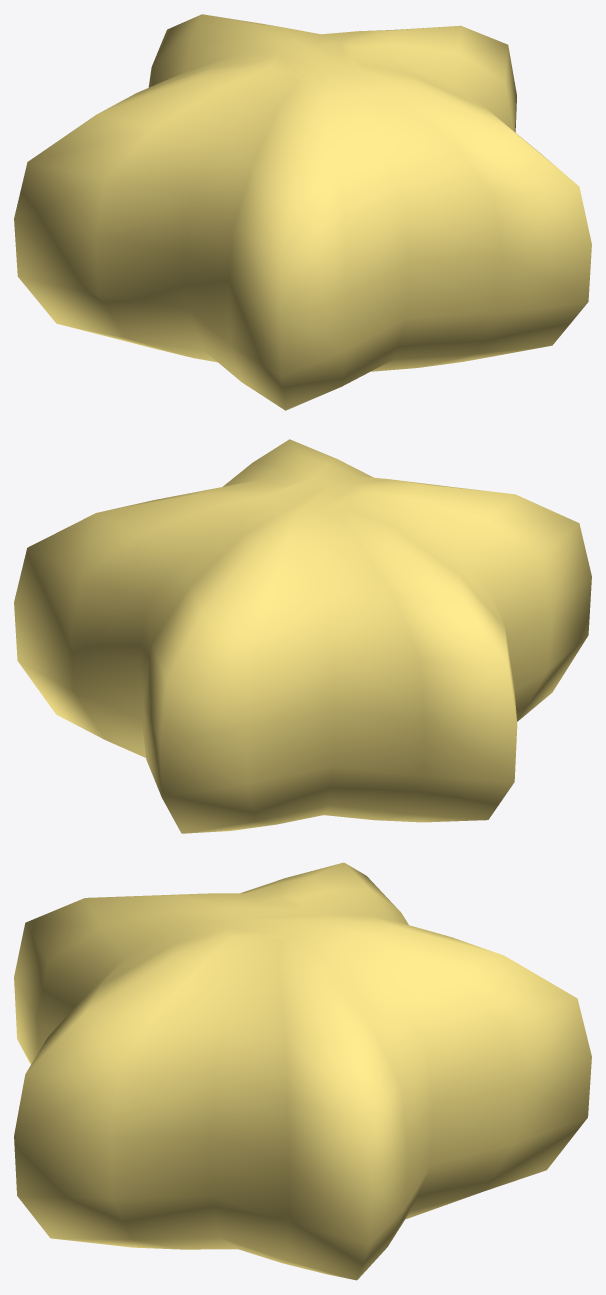
File: candy_assets44.fbx
The picture shows the model from 3 angles, top to bottom: view 1: azimuth 30°, elevation 25°; view 2: azimuth 150°, elevation 25°; view 3: azimuth 270°, elevation 25°; orthographic projection. The views are drawn at different scales.
Parts seen in each view (by area): view 1: candy_assets44; view 2: candy_assets44; view 3: candy_assets44.
Part boxes in pixels (bbox=[...]): candy_assets44: bbox=[14, 14, 591, 410]; candy_assets44: bbox=[14, 439, 591, 833]; candy_assets44: bbox=[14, 862, 591, 1280].
Size of the model in its own units: 442 by 245 by 421.
Materials: 1 (1 with a texture image).
